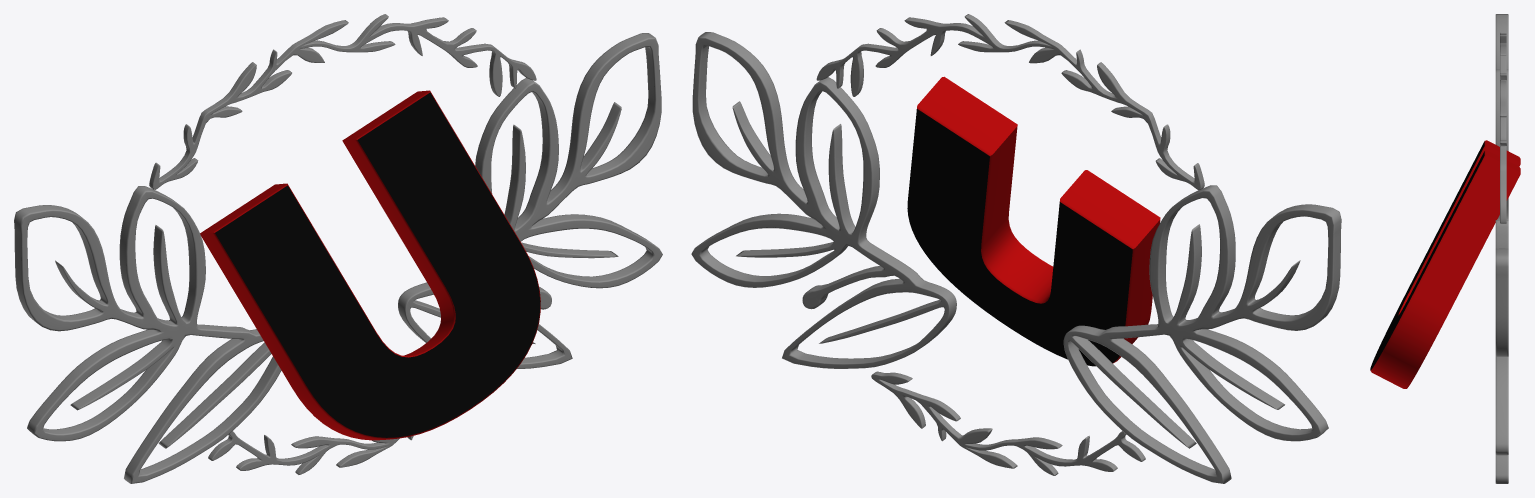
Rendered from PUlittermagnet.fbx.
The picture shows the model from 3 angles, left to right: view 1: azimuth 30°, elevation 25°; view 2: azimuth 150°, elevation 25°; view 3: azimuth 270°, elevation 25°; orthographic projection. The views are drawn at different scales.
Visible parts, largest first — view 1: Powerups, pPlane11, pPlane12, pPlane15; view 2: Powerups, pPlane11, pPlane12, pPlane15; view 3: Powerups, pPlane12, pPlane15, pPlane11.
Boxes of the visible parts, bbox=[...] form: Powerups: bbox=[200, 90, 540, 440]; pPlane11: bbox=[14, 186, 281, 483]; pPlane12: bbox=[398, 33, 662, 368]; pPlane15: bbox=[149, 14, 536, 474]; Powerups: bbox=[907, 76, 1160, 366]; pPlane11: bbox=[1063, 185, 1341, 483]; pPlane12: bbox=[691, 32, 956, 368]; pPlane15: bbox=[816, 14, 1204, 475]; Powerups: bbox=[1370, 140, 1520, 388]; pPlane12: bbox=[1495, 220, 1508, 483]; pPlane15: bbox=[1500, 32, 1506, 223]; pPlane11: bbox=[1495, 14, 1508, 219].
Bounding box in the file's own units: 148 × 97.7 × 34.74.
